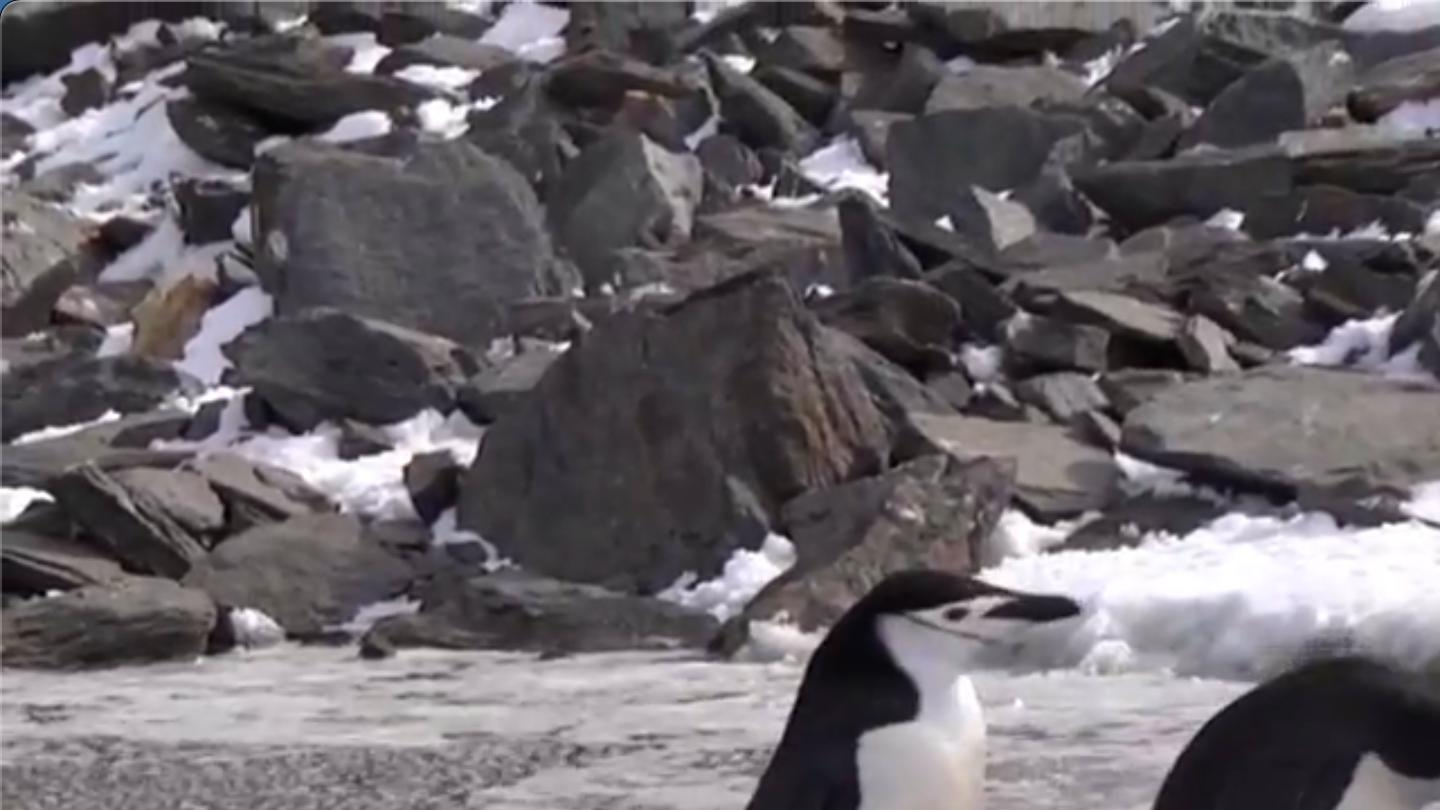Chinstrap Penguin: (686, 549, 1087, 810), (1025, 650, 1440, 810)
